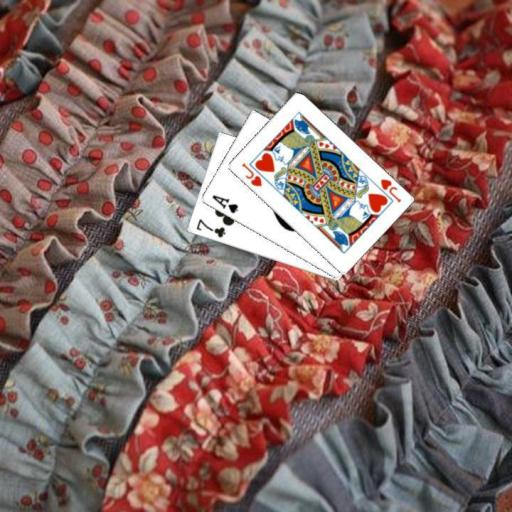card-corner: (193, 216, 227, 239), (238, 159, 263, 188), (208, 192, 239, 215), (377, 176, 402, 204)
